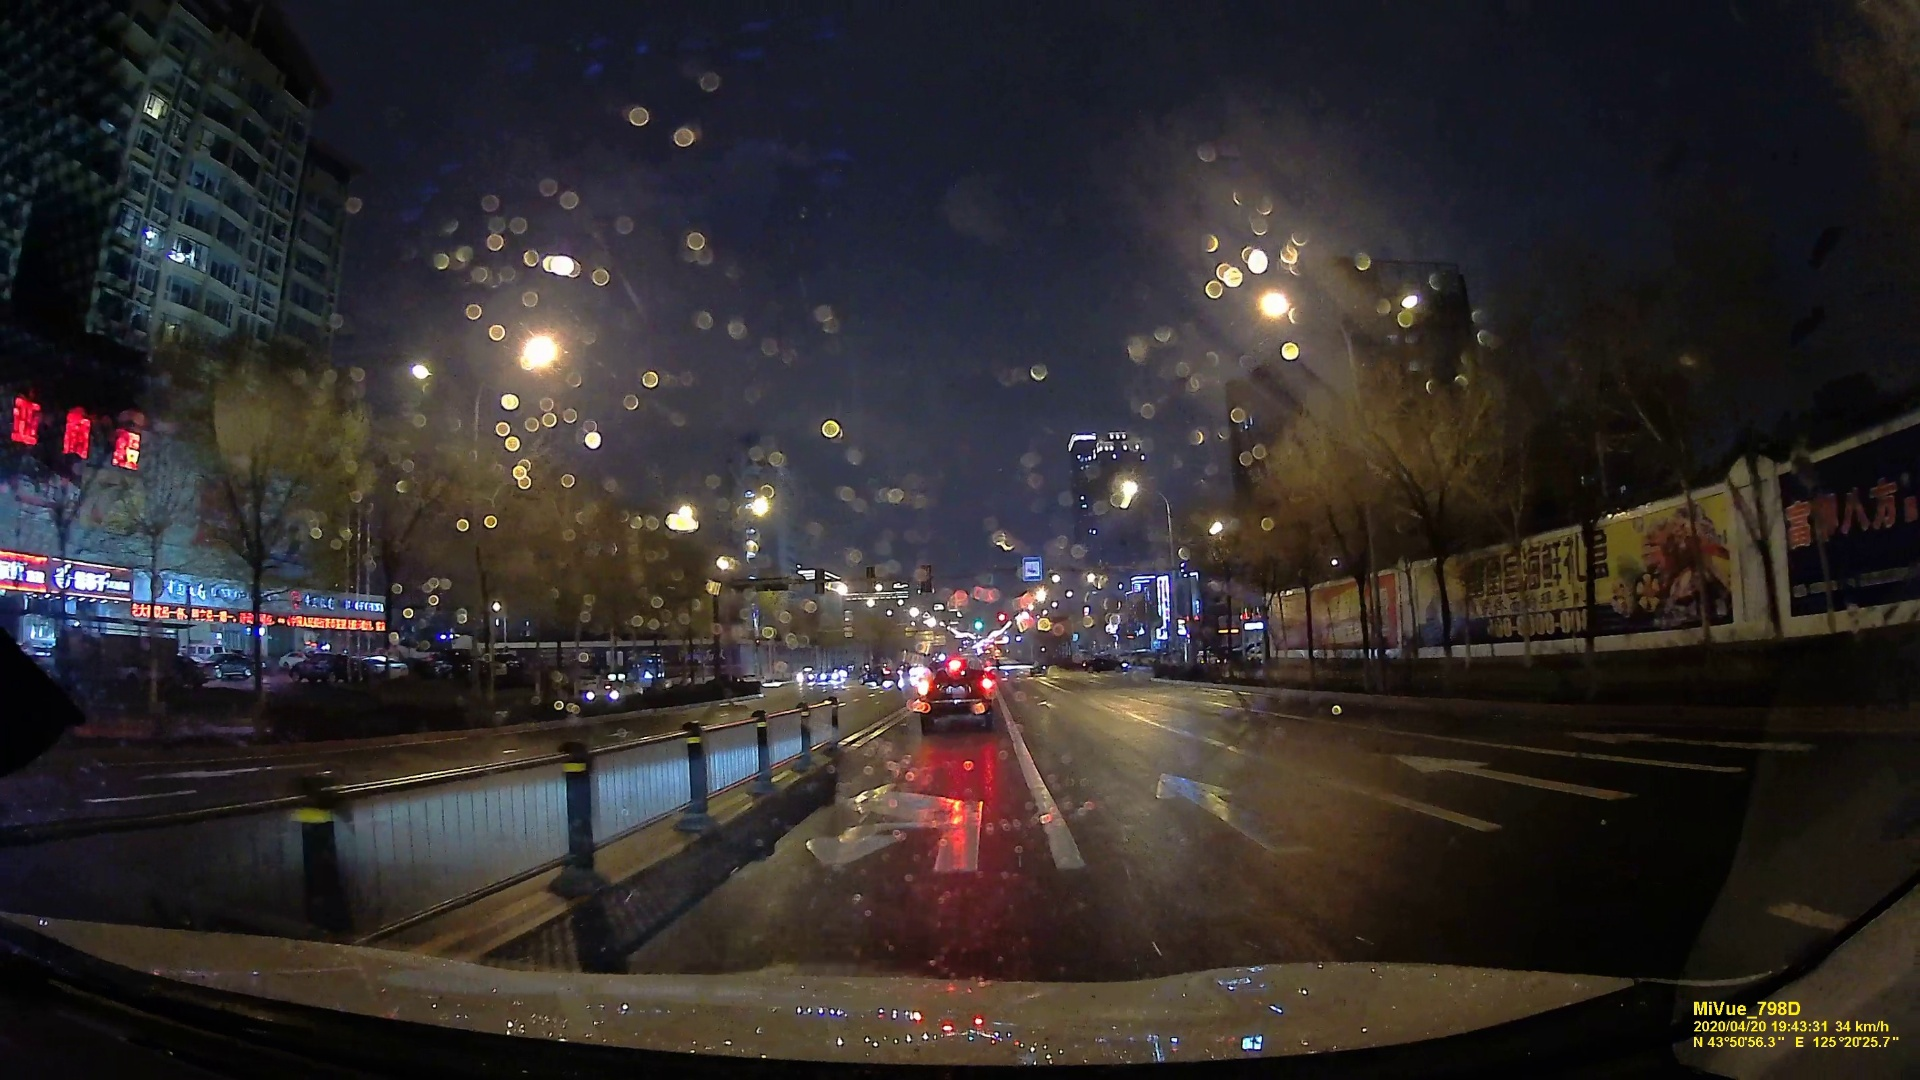traffic_sign: (1025, 558, 1040, 580)
vehicle: (918, 661, 992, 729), (583, 673, 642, 704)
